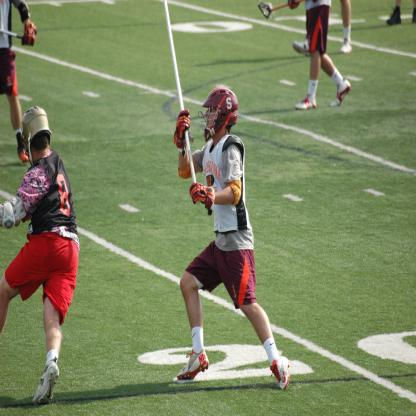Helmet: (24, 103, 52, 165), (204, 88, 240, 135)
